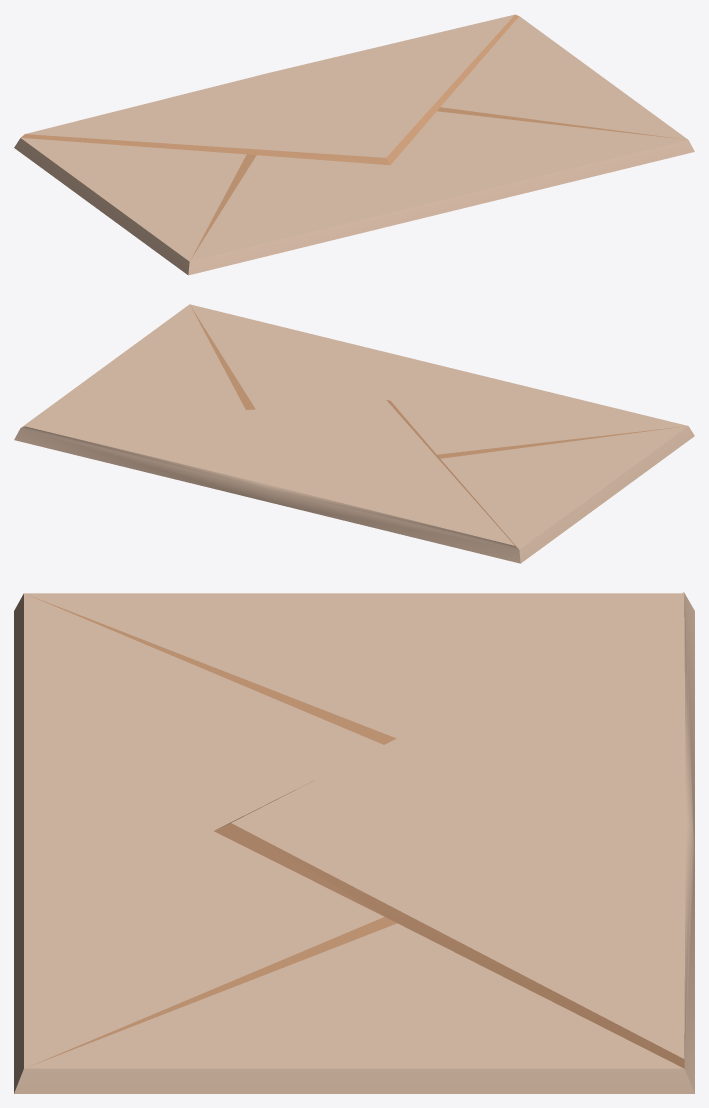
The model's file is Envelope.fbx.
The picture shows the model from 3 angles, top to bottom: view 1: azimuth 30°, elevation 25°; view 2: azimuth 150°, elevation 25°; view 3: azimuth 270°, elevation 25°; orthographic projection. The views are drawn at different scales.
Visible parts, largest first — view 1: Envelope; view 2: Envelope; view 3: Envelope.
Part boxes in pixels (x1,y1,x2,y2): Envelope: (14, 14, 694, 275); Envelope: (14, 304, 694, 563); Envelope: (14, 592, 694, 1093).
Bounding box in the file's own units: 24.63 × 0.7023 × 14.68.
